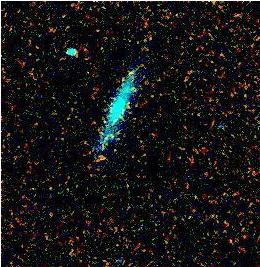star: (85, 147, 115, 177)
